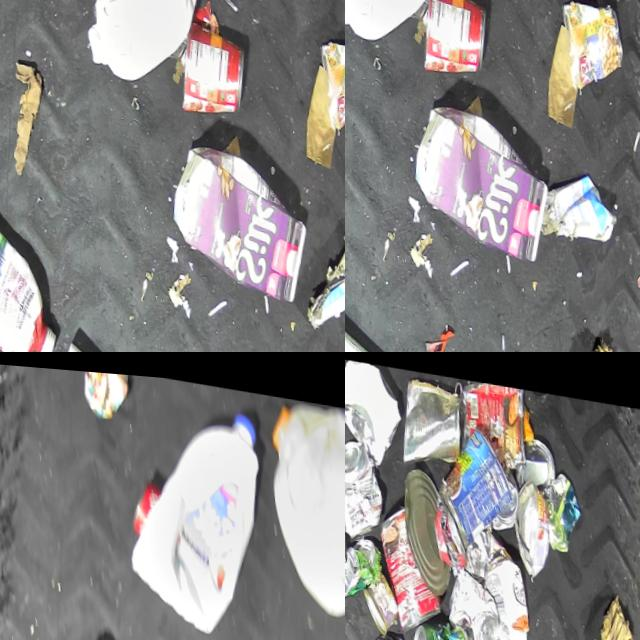can: (427, 410, 516, 547), (368, 494, 448, 630), (394, 458, 456, 588), (174, 12, 247, 114), (396, 367, 466, 466), (454, 370, 530, 460), (551, 0, 626, 86), (416, 0, 489, 74), (439, 557, 499, 640), (506, 467, 551, 570), (345, 429, 386, 535), (309, 27, 345, 126), (76, 367, 132, 422), (355, 563, 399, 629), (345, 525, 381, 601), (511, 425, 557, 484), (487, 458, 519, 525), (403, 608, 468, 640)
milk_jug: (117, 389, 272, 637), (250, 385, 345, 623), (76, 0, 206, 84)
non_white_jug: (162, 130, 310, 296), (404, 90, 552, 256), (0, 200, 62, 352)
